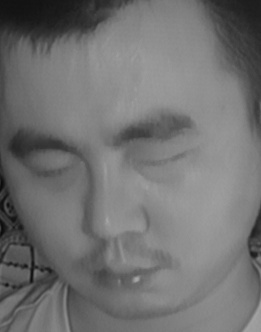blink: (135, 143, 192, 186), (32, 155, 83, 191)
mouth: (85, 250, 167, 300)
